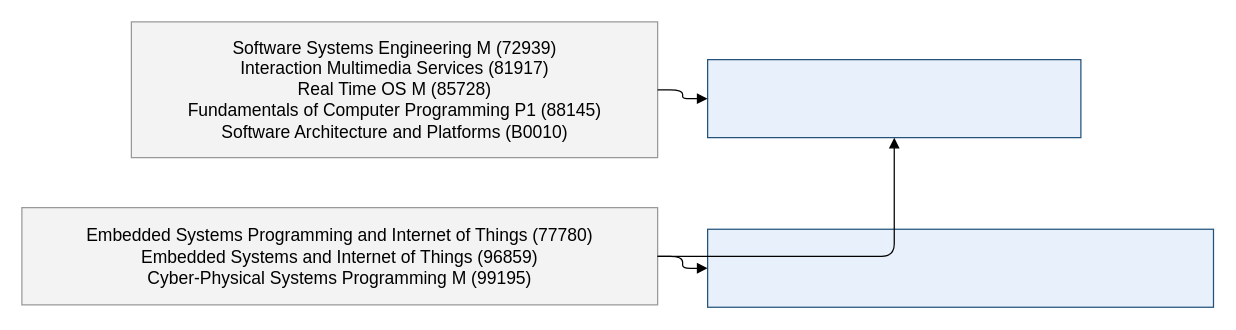
Image size: 1236x330. Some labels were removed from this diagram. Each missing label, with the box of its shape:
Cyber-Physical Systems Integration and Security 3 ECTS: (706, 228, 1214, 307)
Embedded Real-Time Programming 6 ECTS: (706, 58, 1081, 138)
